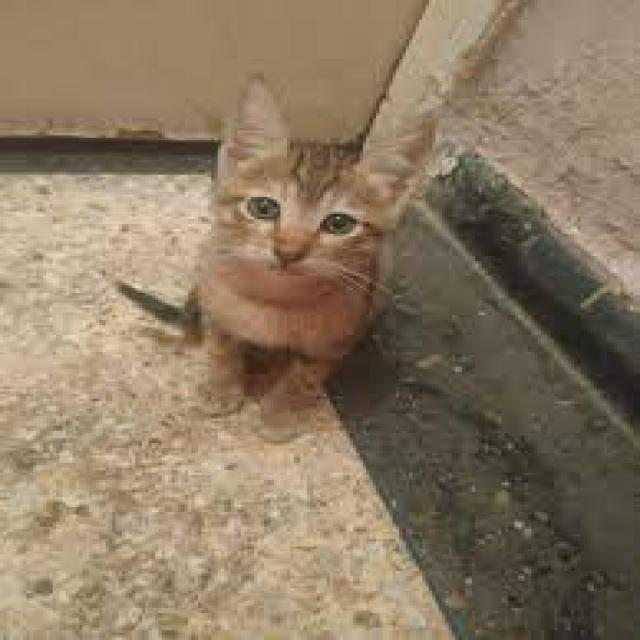cat: (158, 67, 445, 432)
